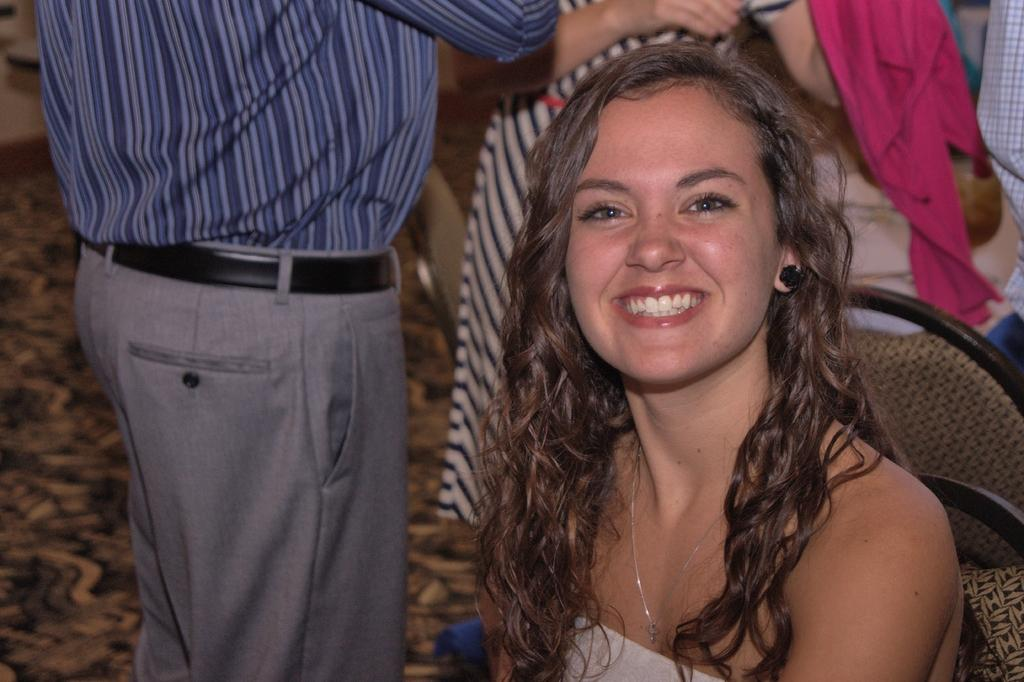Sem Máscara: (563, 74, 781, 380)
